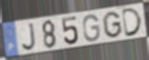5: (61, 15, 80, 46)
8: (42, 19, 58, 49)
D: (121, 7, 144, 38)
G: (101, 10, 123, 39), (82, 14, 102, 43)
J: (21, 21, 38, 52)
